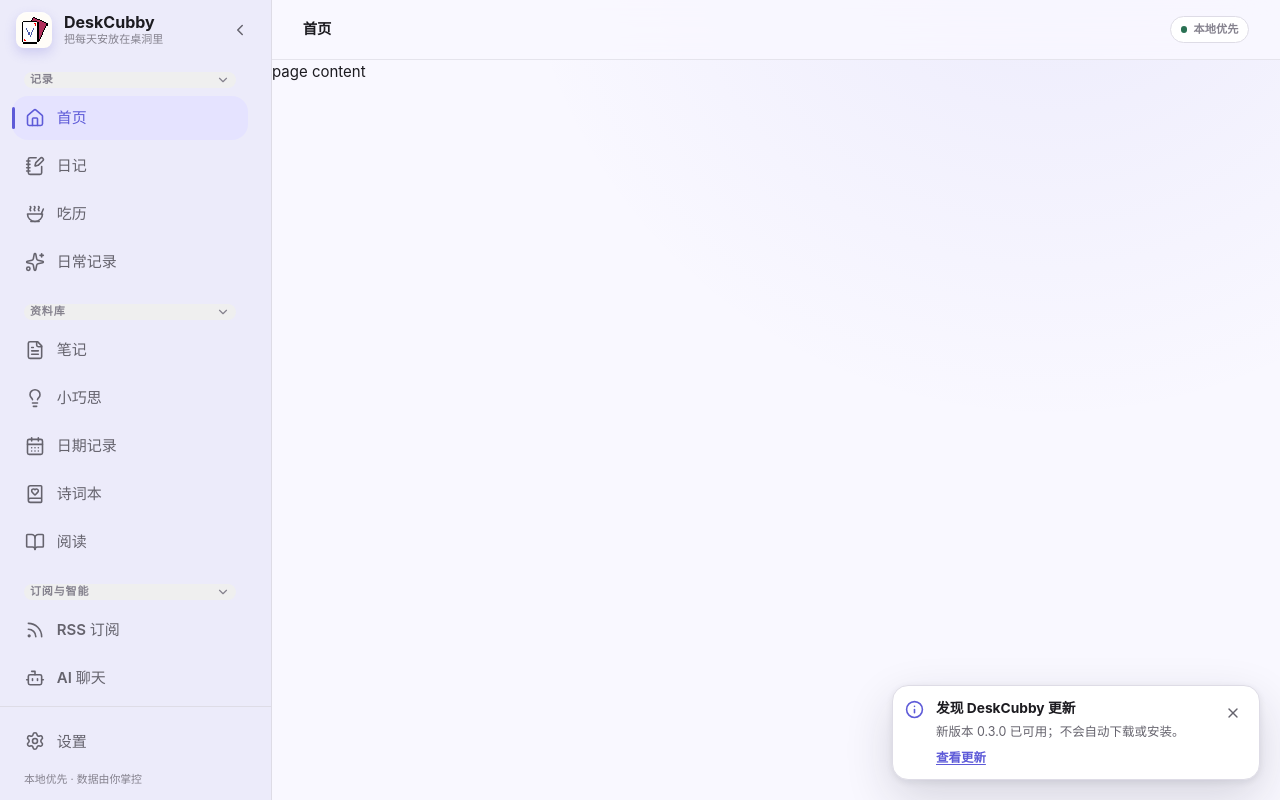
AppShell › shows a persistent actionable toast for a safe update event
Expected: the text "发现 DeskCubby 更新" is shown, [936,700,1075,716]
Expected: the text "新版本 0.3.0 已可用；不会自动下载或安装。" is shown, [936,722,1206,741]
Click the link "查看更新": x=961, y=757 [936,748,986,767]
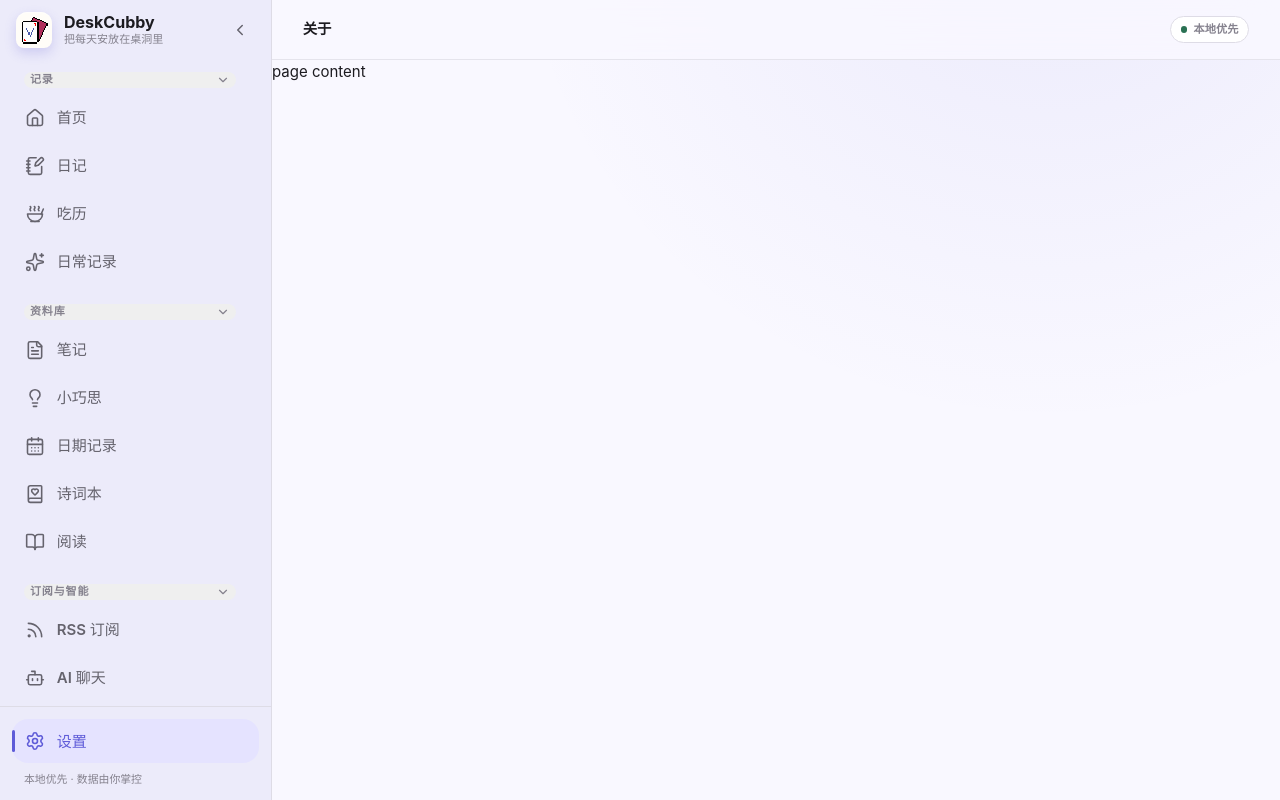
Expected: the text "关于" is shown, [303,18,332,41]
Expected: the text "发现 DeskCubby 更新" is gone
